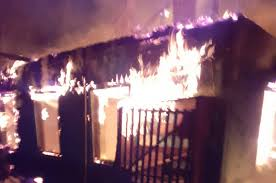fire: (16, 37, 217, 140)
